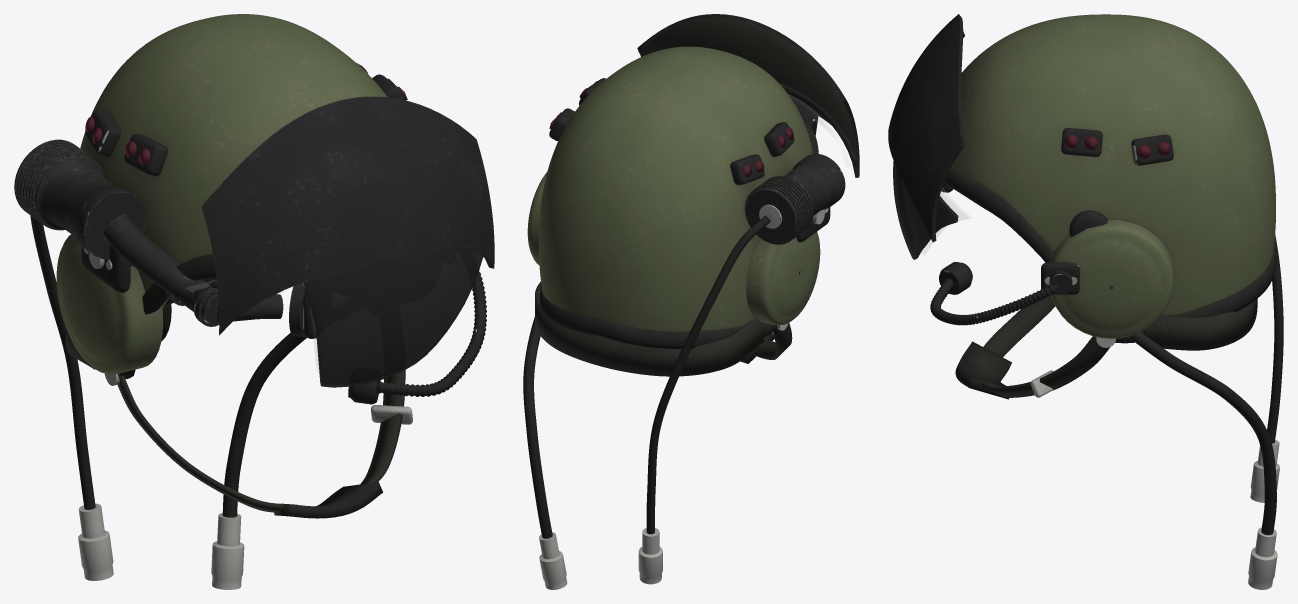
The model's file is apache_helmet.glb.
3 renders of one model, left to right at view 1: azimuth 30°, elevation 25°; view 2: azimuth 150°, elevation 25°; view 3: azimuth 270°, elevation 25°, orthographic. The views are drawn at different scales.
Parts seen in each view (by area): view 1: Visor_Housing, Shell, Visor_Tinted_Sheet, HDU_Body, Ear_Dome_Right, Cable_Display, Cord_Comms, Chin_Strap, Mic_Boom_Body, Chin_Cup, Shell_Trim, HDU_Adapter_Block (+3 smaller); view 2: Shell, Visor_Housing, Nape_Strap, HDU_Body, Ear_Dome_Right, Cable_Display, Cord_Comms, Shell_Trim, Visor_Tinted_Sheet, Ear_Dome_Left, Chin_Strap, IR_Emitter_Right_Rear_Housing (+2 smaller); view 3: Shell, Ear_Dome_Left, Visor_Housing, Cord_Comms, Shell_Trim, Chin_Strap, Nape_Strap, Mic_Boom_Body, Cable_Display, Visor_Tinted_Sheet, Chin_Cup, IR_Emitter_Left_Rear_Housing (+3 smaller).
Boxes of the visible parts, x1,y1,x2,y2 form: Visor_Housing: (201, 96, 494, 335); Shell: (80, 14, 387, 306); Visor_Tinted_Sheet: (194, 246, 483, 387); HDU_Body: (14, 139, 316, 338); Ear_Dome_Right: (56, 234, 163, 373); Cable_Display: (30, 215, 113, 580); Cord_Comms: (211, 332, 306, 589); Chin_Strap: (117, 370, 405, 512); Mic_Boom_Body: (348, 269, 486, 404); Chin_Cup: (274, 482, 383, 518); Shell_Trim: (119, 254, 216, 379); HDU_Adapter_Block: (81, 244, 130, 292); Shell: (539, 46, 812, 331); Visor_Housing: (637, 14, 859, 177); Nape_Strap: (535, 281, 764, 376); HDU_Body: (745, 154, 845, 244); Ear_Dome_Right: (746, 232, 820, 324); Cable_Display: (638, 215, 770, 584); Cord_Comms: (523, 317, 567, 589); Shell_Trim: (540, 120, 818, 348); Visor_Tinted_Sheet: (779, 83, 857, 165); Ear_Dome_Left: (527, 172, 546, 264); Chin_Strap: (753, 323, 792, 359); IR_Emitter_Right_Rear_Housing: (730, 154, 764, 184); Shell: (952, 14, 1275, 315); Ear_Dome_Left: (1051, 219, 1173, 338); Visor_Housing: (888, 14, 964, 242); Cord_Comms: (1129, 332, 1277, 589); Shell_Trim: (944, 165, 1276, 343); Chin_Strap: (978, 290, 1110, 397); Nape_Strap: (1143, 298, 1257, 350); Mic_Boom_Body: (930, 262, 1072, 325); Cable_Display: (1250, 234, 1283, 502); Visor_Tinted_Sheet: (893, 161, 958, 259); Chin_Cup: (955, 341, 1011, 399); IR_Emitter_Left_Rear_Housing: (1131, 134, 1173, 165).
Size of the model in its own units: 0.2771 by 0.4411 by 0.2978.
Materials: 8 (4 with a texture image).
